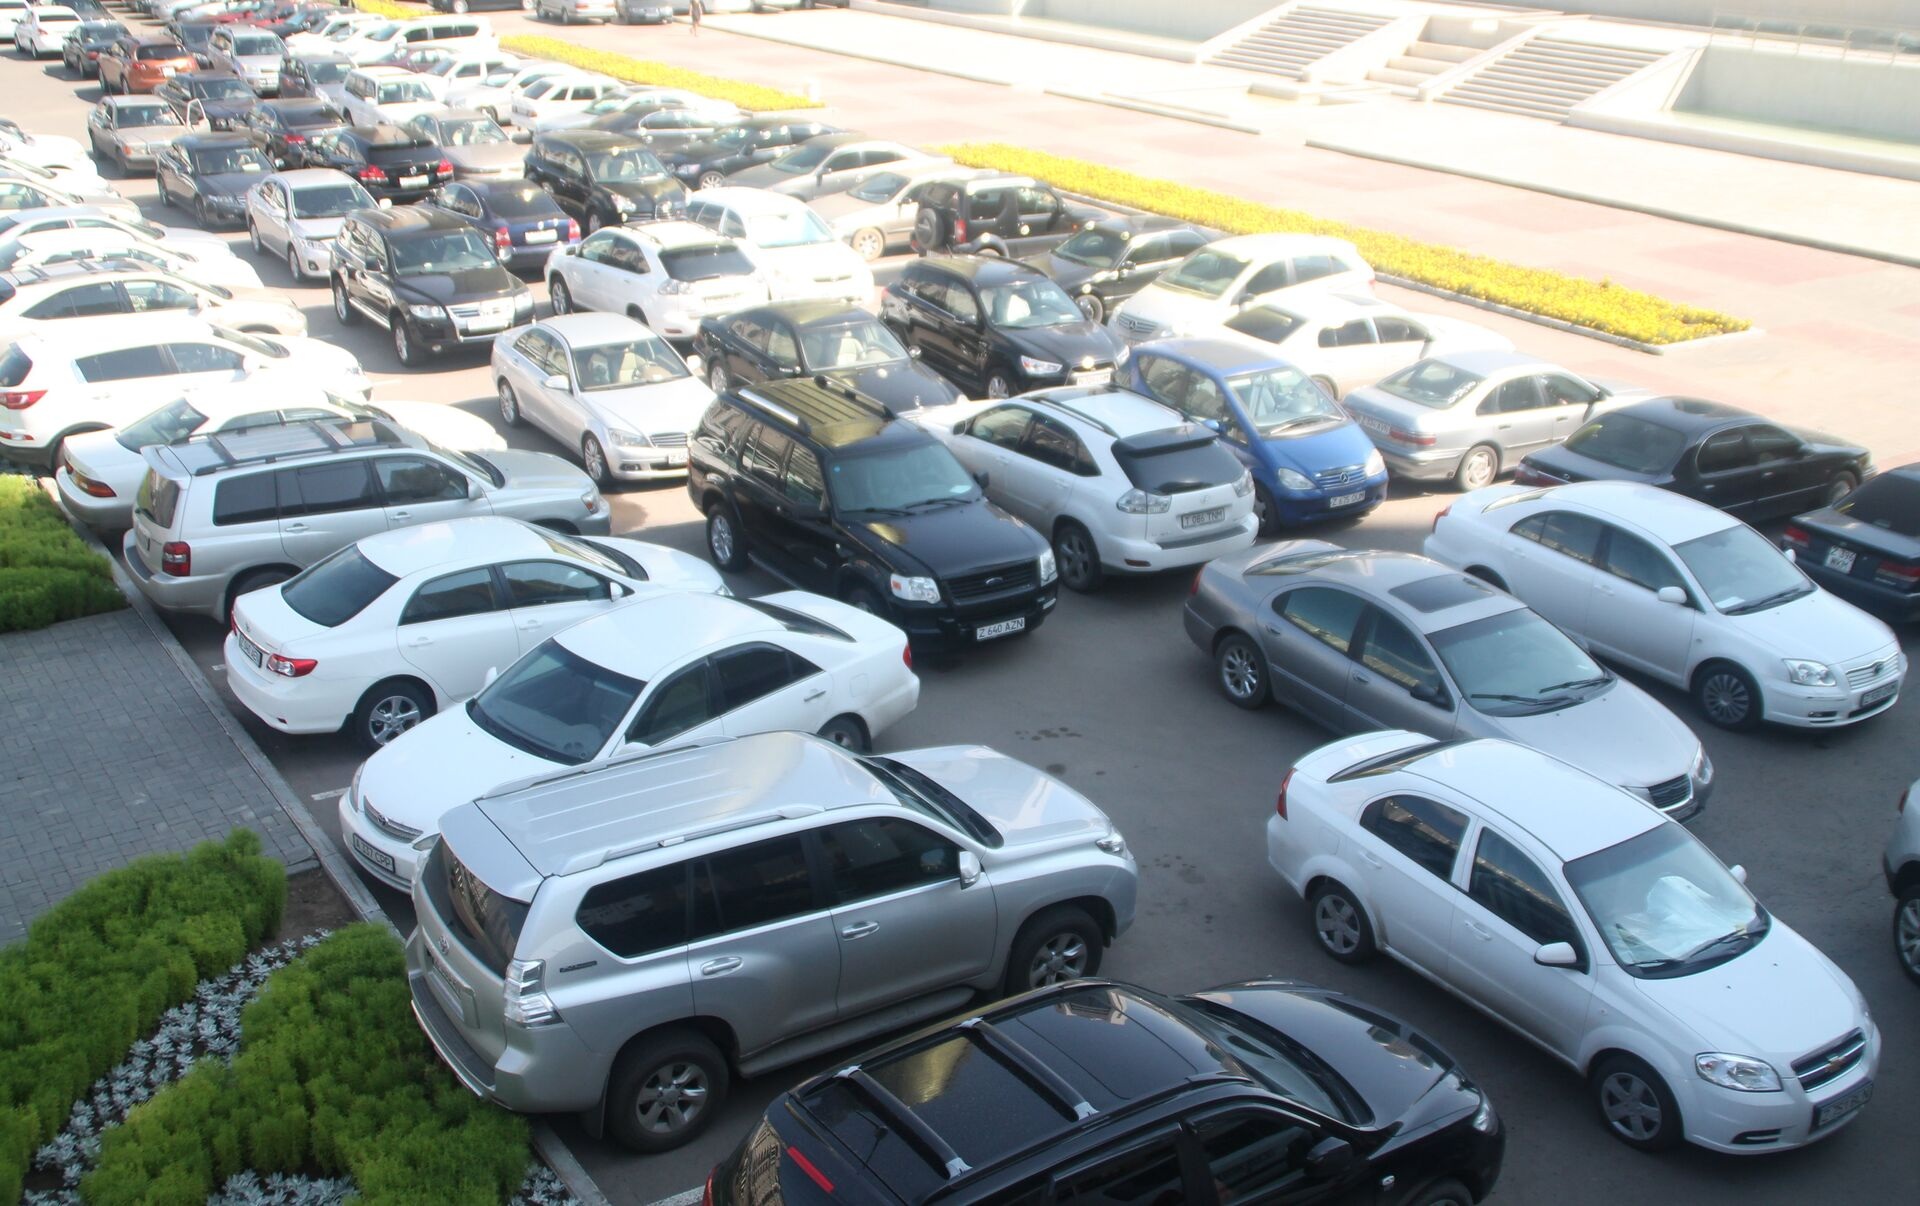Car: (407, 734, 1138, 1153), (1266, 732, 1881, 1155), (703, 980, 1505, 1206), (339, 590, 920, 891), (1184, 540, 1714, 820), (1423, 482, 1907, 729), (224, 517, 728, 750), (689, 379, 1057, 647), (124, 418, 609, 618), (897, 383, 1257, 590), (53, 378, 507, 535), (0, 315, 371, 467), (1116, 338, 1387, 534), (1516, 396, 1873, 525), (1343, 352, 1644, 490), (492, 315, 718, 488), (881, 256, 1118, 399), (331, 207, 539, 367), (1211, 295, 1513, 397), (1107, 233, 1375, 345), (697, 301, 960, 413), (0, 258, 308, 350), (545, 221, 770, 345), (1017, 215, 1234, 322), (686, 188, 874, 308), (1782, 463, 1920, 624), (809, 163, 991, 261), (525, 131, 695, 231), (911, 172, 1106, 258), (714, 133, 957, 201), (247, 170, 390, 283), (0, 228, 264, 289), (413, 179, 584, 270), (660, 118, 843, 192), (532, 83, 745, 146), (0, 207, 238, 258), (300, 126, 454, 201), (156, 135, 281, 226), (88, 94, 211, 178), (443, 58, 589, 126), (332, 14, 500, 67), (239, 97, 351, 171), (582, 103, 728, 157), (406, 111, 524, 178), (1882, 779, 1920, 985), (336, 65, 456, 128), (511, 72, 625, 135), (154, 71, 265, 133), (0, 171, 143, 218), (206, 22, 292, 99), (96, 35, 199, 94), (0, 151, 126, 197), (0, 118, 100, 175), (415, 51, 521, 104), (278, 53, 357, 111), (61, 19, 133, 79), (14, 3, 83, 60), (286, 13, 388, 50), (297, 19, 397, 53), (263, 7, 361, 40), (358, 44, 463, 75), (161, 19, 220, 71), (231, 0, 338, 28), (535, 0, 617, 24), (207, 0, 281, 24), (50, 0, 119, 24), (665, 0, 753, 17), (615, 0, 674, 25), (0, 0, 33, 43), (429, 0, 538, 13), (174, 0, 242, 19), (153, 0, 211, 21), (752, 0, 803, 13), (806, 0, 850, 8), (133, 0, 156, 17), (122, 0, 136, 11)
